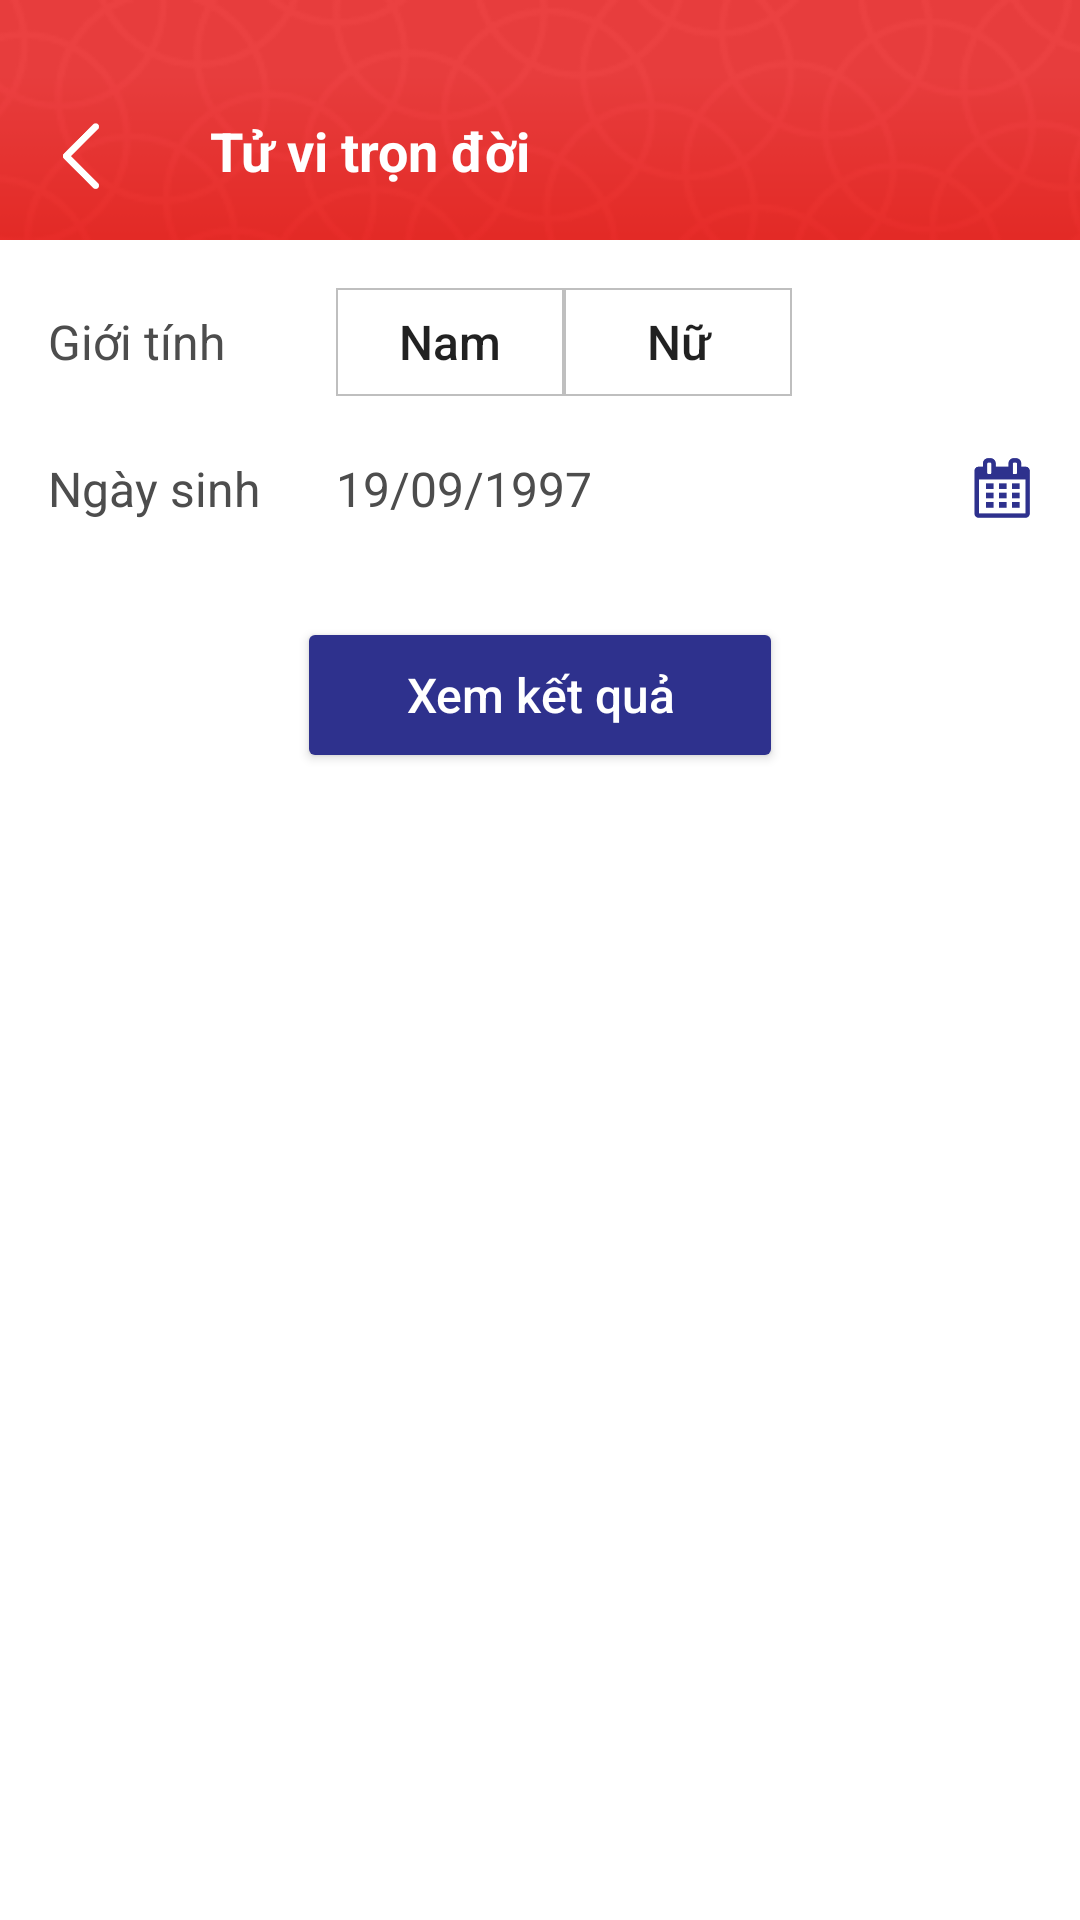

Screen size 1080w x 1920h. Icon name, then its box in pixels as (x1, y1, x2, y2):
chon ngaythangnam: (974, 458, 1030, 518)
